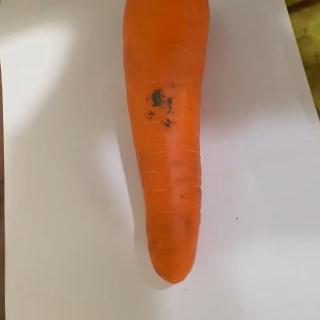carrot: (121, 0, 212, 284)
